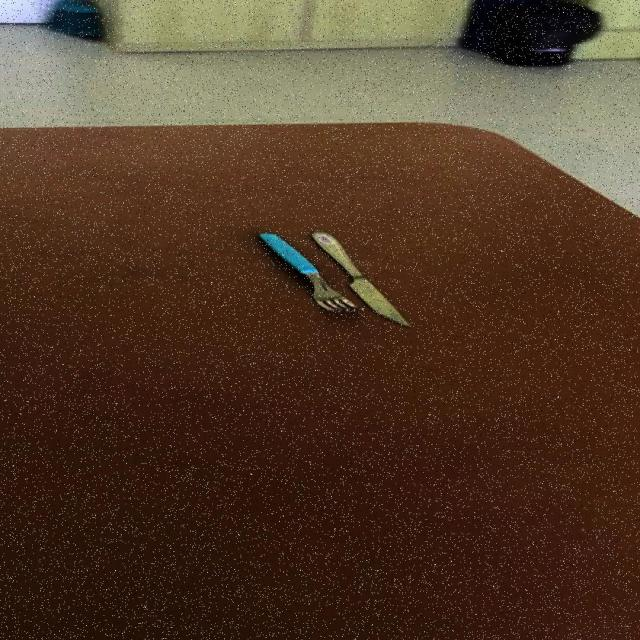Fork: (260, 231, 362, 314)
Knife: (312, 230, 414, 328)
